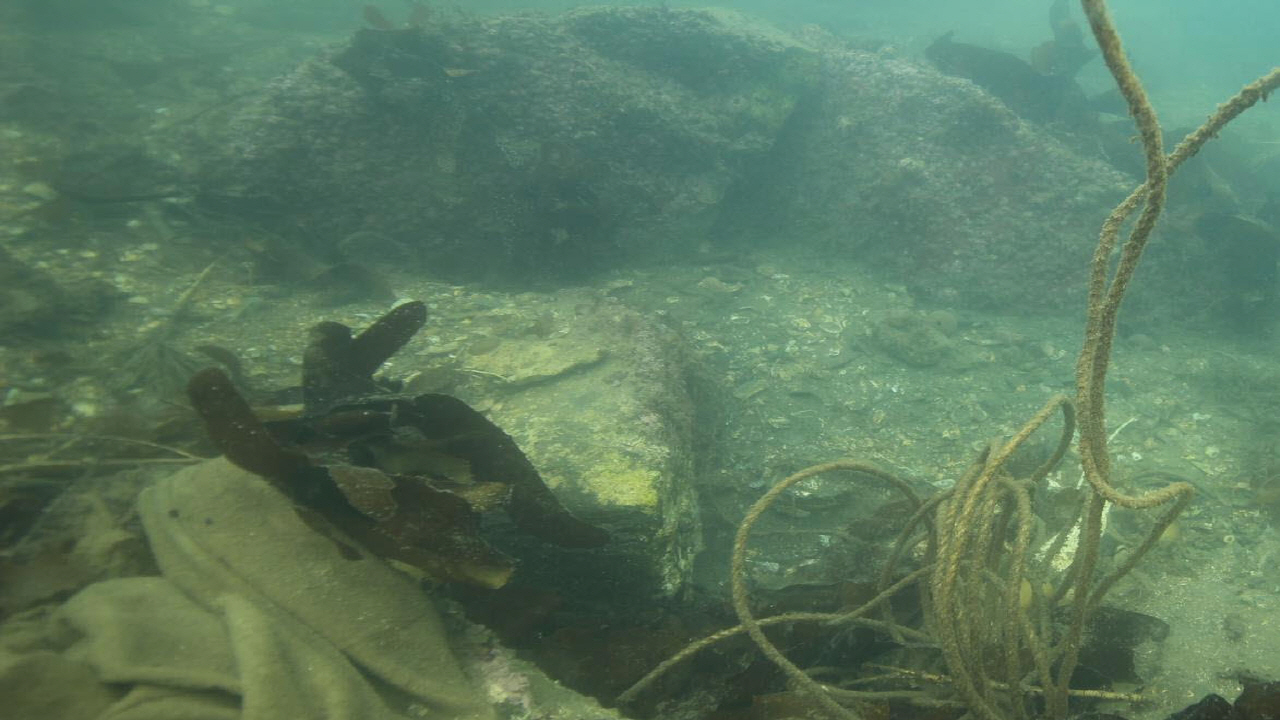bundle of ropes: (609, 0, 1280, 720)
